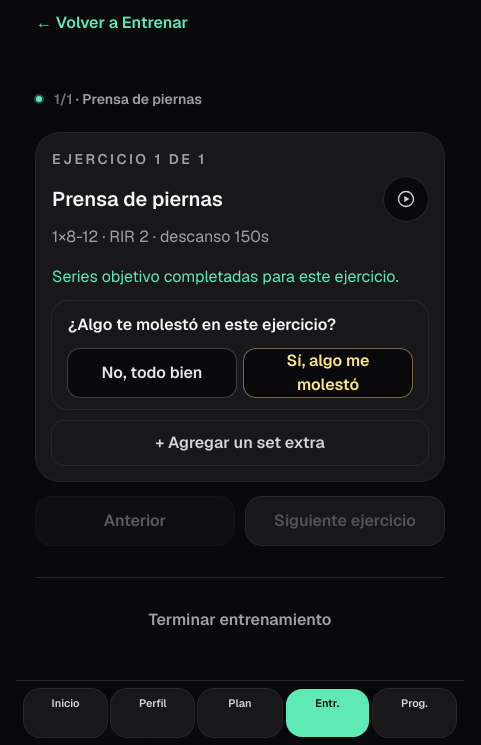
Test: SessionRunner › bonus sets past targetSets › reopens the logging form for exactly one more set when '+ Agregar un set extra' is tapped, bilateral
The width and height of the screenshot is (481, 745).
Check: the text "Series objetivo completadas para este ejercicio." is shown, box [52,265,428,289]
Click the button "+ Agregar un set extra" at point(240, 443), box [52,421,428,465]
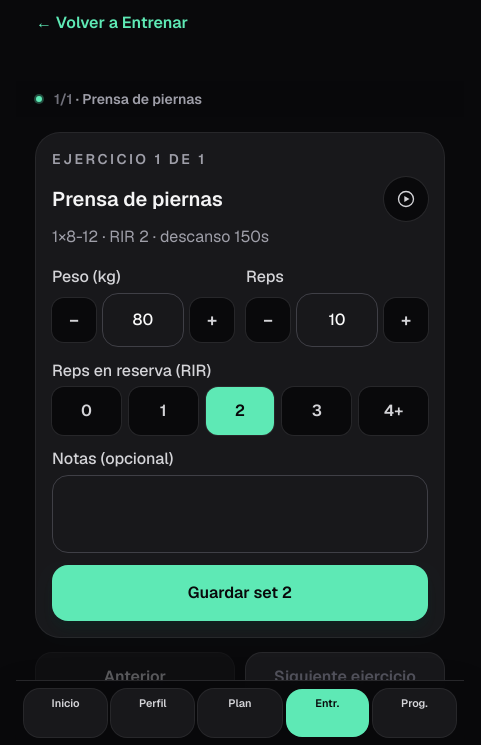
Check: the button "Guardar set 2" is shown, box [52,565,428,621]
Check: the text "Series objetivo completadas para este ejercicio." is gone
